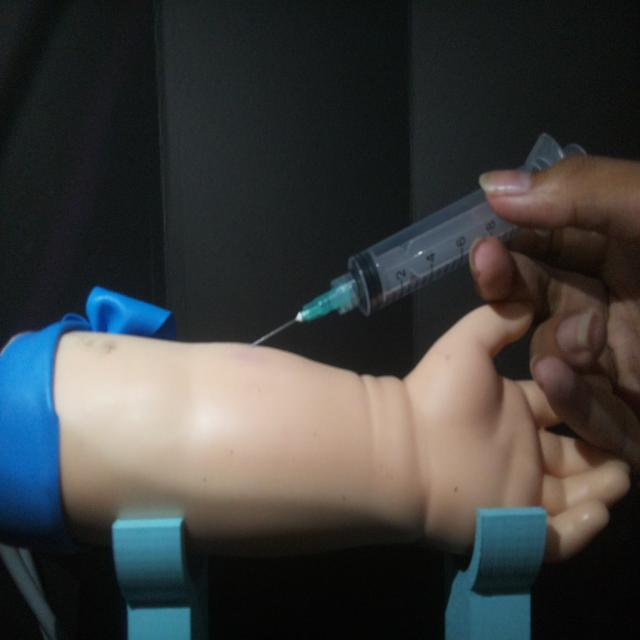29deg: (245, 129, 587, 351)
